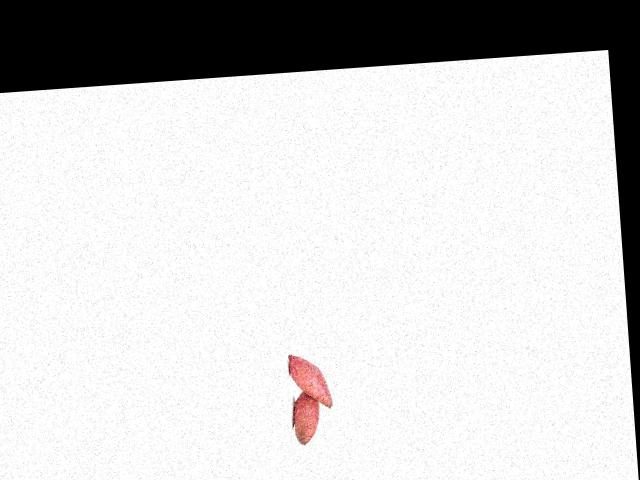sweet_potato: (291, 385, 325, 447)
